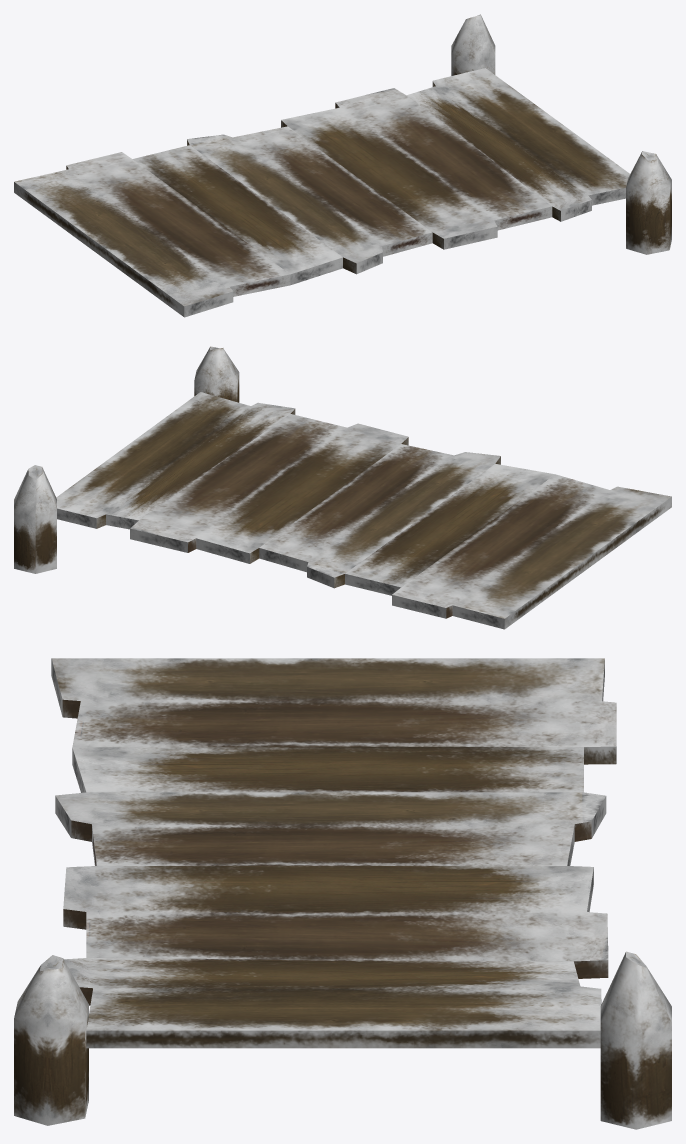
File: SV_AFT_snow_muban3_0.FBX
3 views of the same model, one above another, from view 1: azimuth 30°, elevation 25°; view 2: azimuth 150°, elevation 25°; view 3: azimuth 270°, elevation 25° (orthographic). The views are drawn at different scales.
Parts seen in each view (by area): view 1: SV_AFT_snow_muban3_0; view 2: SV_AFT_snow_muban3_0; view 3: SV_AFT_snow_muban3_0.
Part boxes in pixels (box(x1,y1,x2,y2)): SV_AFT_snow_muban3_0: box(14, 14, 671, 317); SV_AFT_snow_muban3_0: box(14, 346, 671, 629); SV_AFT_snow_muban3_0: box(14, 658, 671, 1129).
Bounding box in the file's own units: 7.57 × 1.43 × 5.41.
